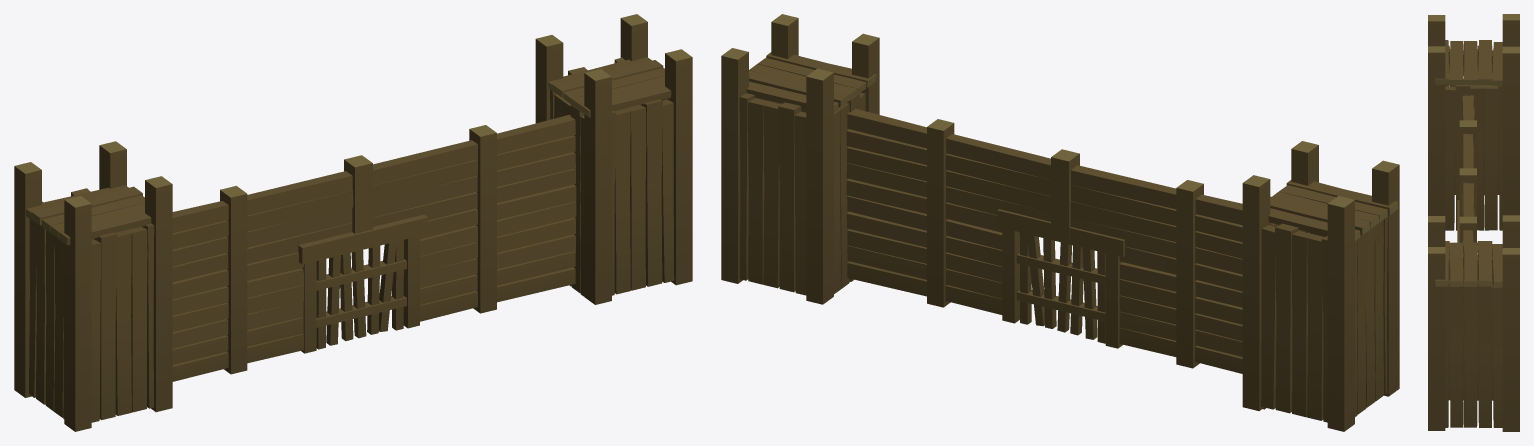
File: gate-marais.glb
3 renders of one model, left to right at view 1: azimuth 30°, elevation 25°; view 2: azimuth 150°, elevation 25°; view 3: azimuth 270°, elevation 25°, orthographic. The views are drawn at different scales.
Visible parts, largest first — view 1: gate:marais; view 2: gate:marais; view 3: gate:marais.
Part boxes in pixels (x1=…): gate:marais: x1=14, y1=14, x2=692, y2=431; gate:marais: x1=721, y1=14, x2=1399, y2=431; gate:marais: x1=1428, y1=14, x2=1519, y2=431.
Bounding box in the file's own units: 13 × 4.5 × 2.1.
